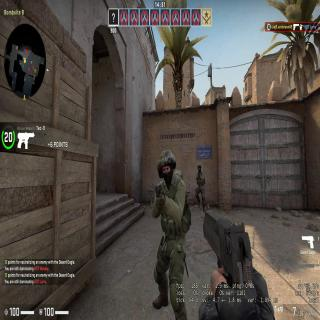CT-Body: (148, 137, 188, 310), (194, 161, 206, 205)
CT-Head: (156, 149, 175, 182), (197, 164, 201, 172)
